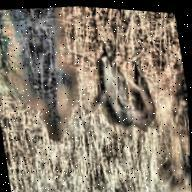boar: (72, 40, 190, 161)
